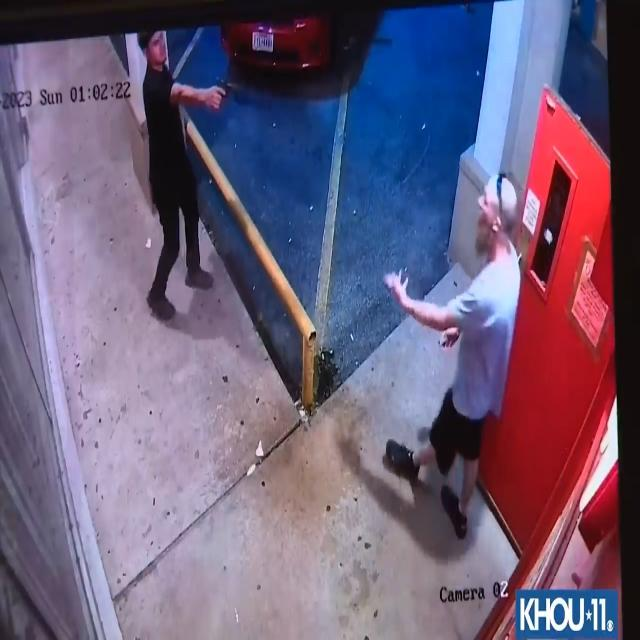Gun_Holder: (210, 71, 240, 112)
Person: (382, 163, 527, 552), (131, 29, 222, 323)
